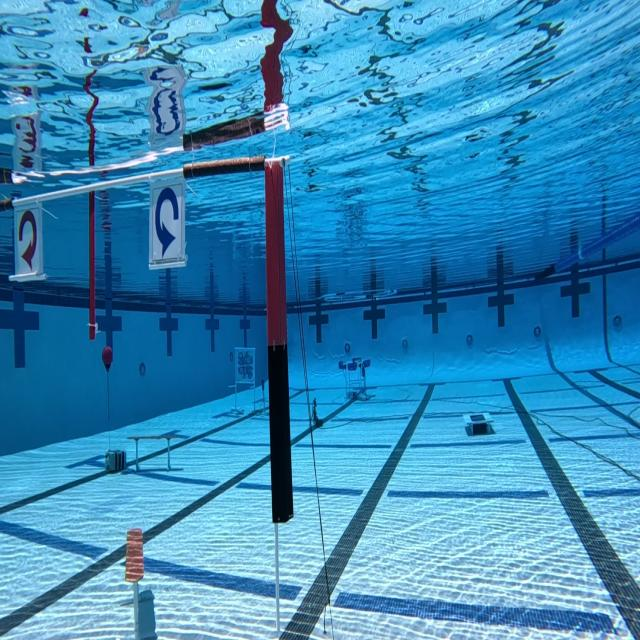blue_side: (154, 178, 181, 260)
red_side: (16, 200, 39, 280)
